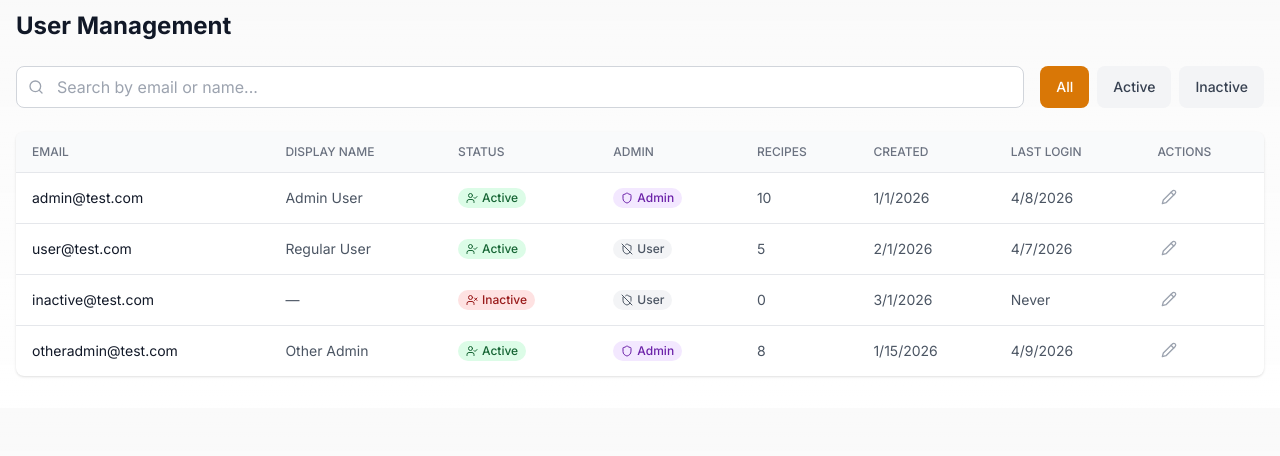
UsersPage › self-admin-revoke shows error message
Expected: the text "admin@test.com" is shown, [16,172,269,224]
// Click the admin toggle for admin@test.com (our own account)
Click the switch named "toggle admin status": (648, 198) [613,188,682,208]
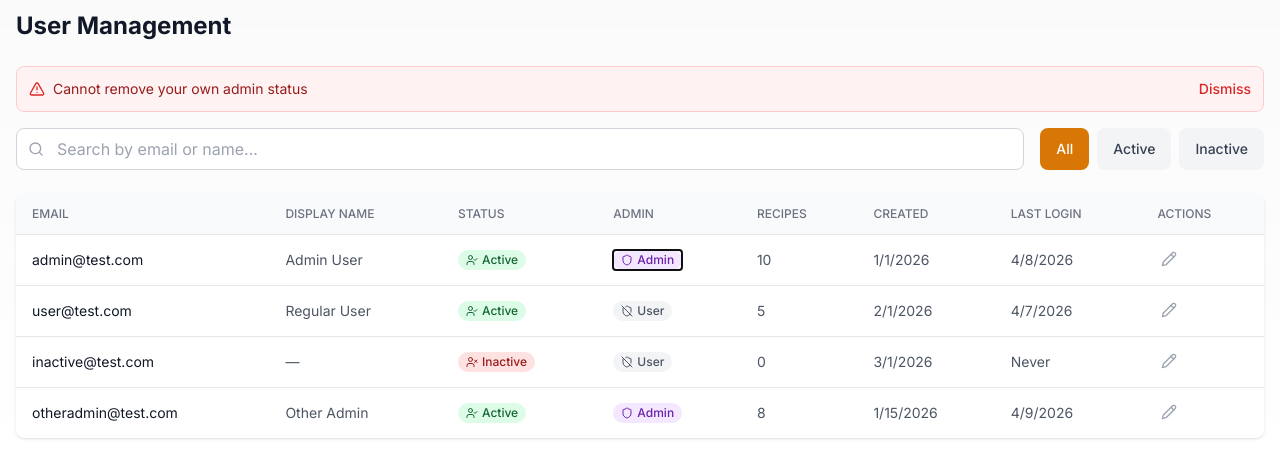
Result: the text "Cannot remove your own admin status" is shown at [53,79,308,99]
